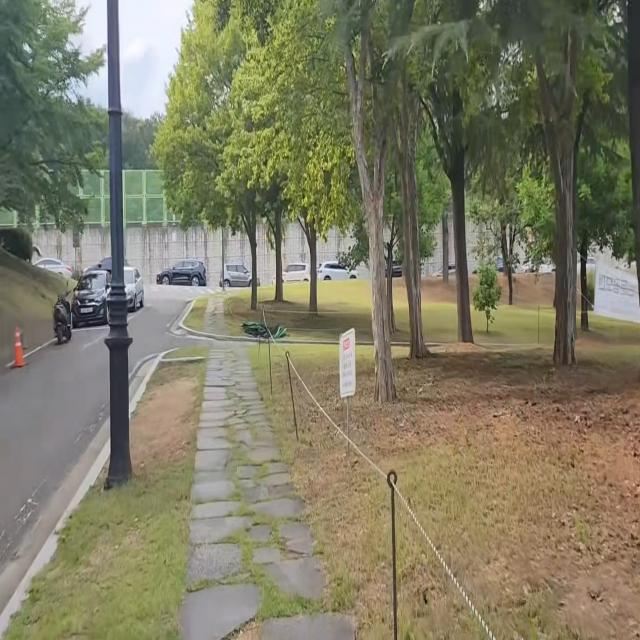obstacle: (106, 0, 135, 485), (61, 257, 147, 332), (48, 285, 79, 345), (10, 320, 30, 382)
road: (2, 288, 201, 609)
sidewalk: (177, 351, 367, 640), (204, 290, 225, 338)
